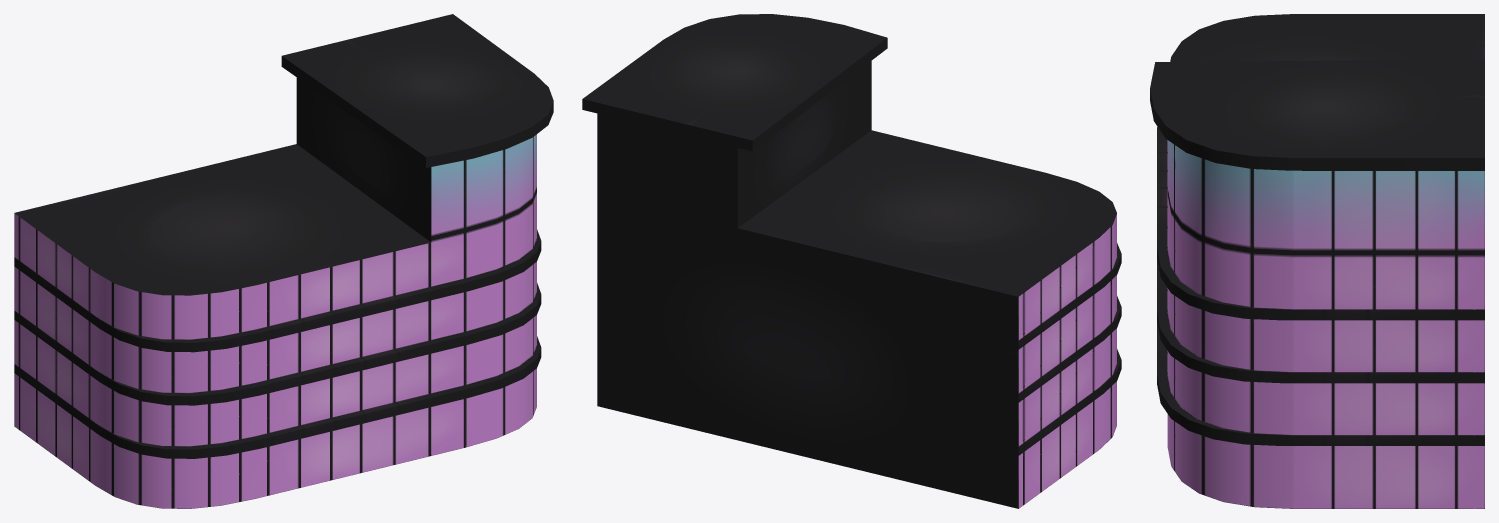
File: building_04.fbx
The picture shows the model from 3 angles, left to right: view 1: azimuth 30°, elevation 25°; view 2: azimuth 150°, elevation 25°; view 3: azimuth 270°, elevation 25°; orthographic projection. The views are drawn at different scales.
Visible parts, largest first — view 1: Box021; view 2: Box021; view 3: Box021.
Boxes of the visible parts, x1=… form: Box021: x1=14, y1=14, x2=553, y2=508; Box021: x1=582, y1=14, x2=1121, y2=508; Box021: x1=1150, y1=14, x2=1484, y2=508.
Size of the model in its own units: 790 by 525 by 443.
Materials: 1 (1 with a texture image).
